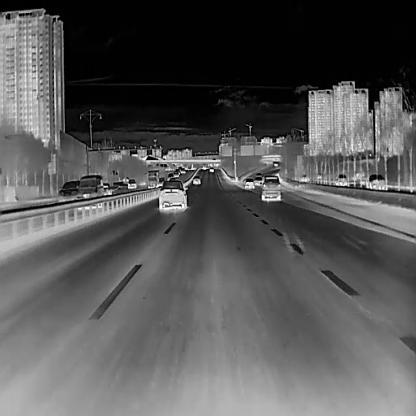car: (159, 180, 188, 209), (75, 174, 103, 197), (260, 175, 280, 200), (57, 180, 80, 196), (368, 173, 385, 189), (146, 169, 159, 188), (335, 173, 347, 185), (254, 174, 264, 185), (102, 182, 111, 194), (244, 178, 254, 188), (127, 179, 135, 188), (192, 175, 200, 184), (167, 172, 173, 180), (173, 171, 179, 177), (209, 166, 213, 171), (274, 162, 278, 166)
